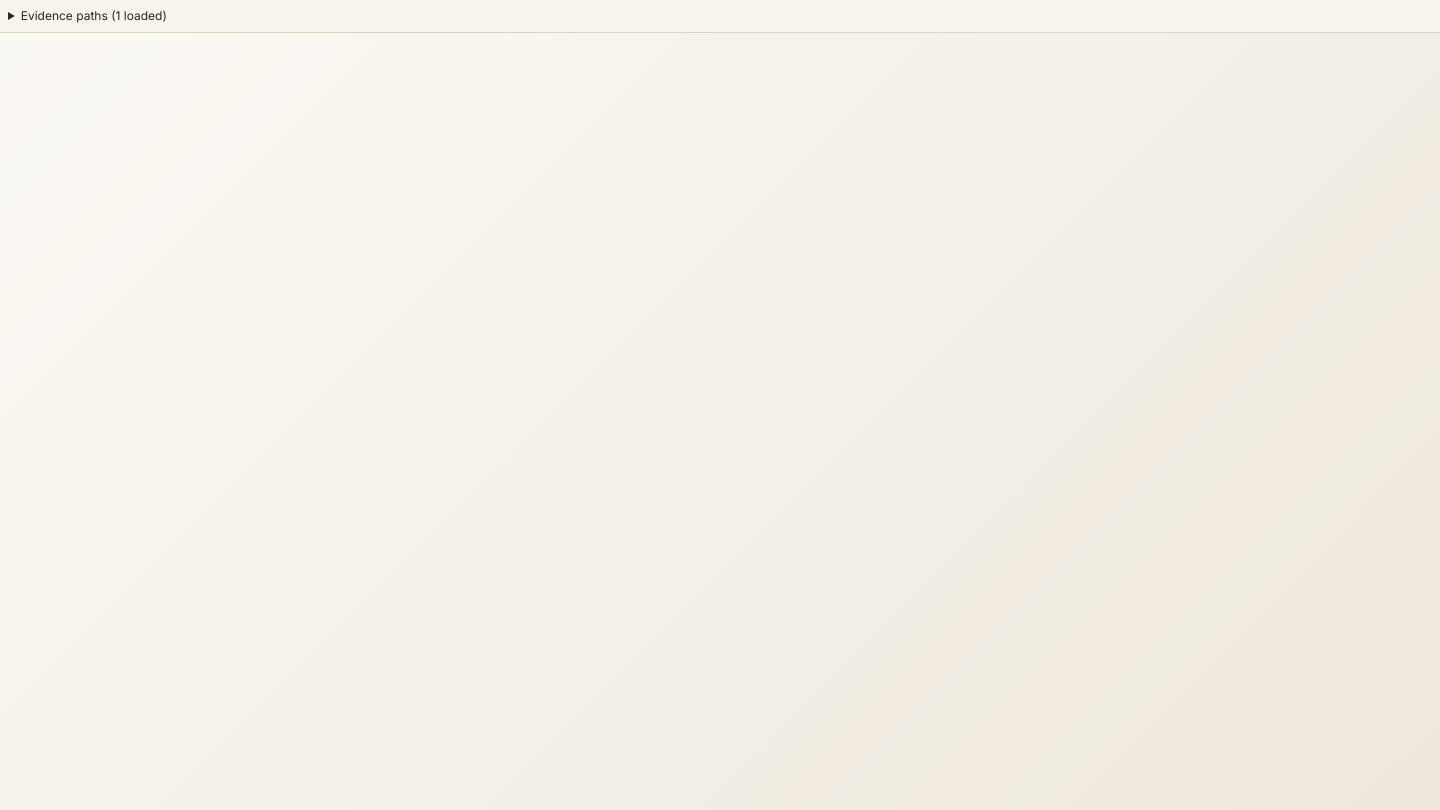
Integrated evidence paths › keeps stored direction, properties and citations and can fetch the next page
Later steps or results of the test are not shown.
Click the heading "Evidence paths (1 loaded)" at (94, 16), box top-left (21, 8), bottom-right (167, 23)
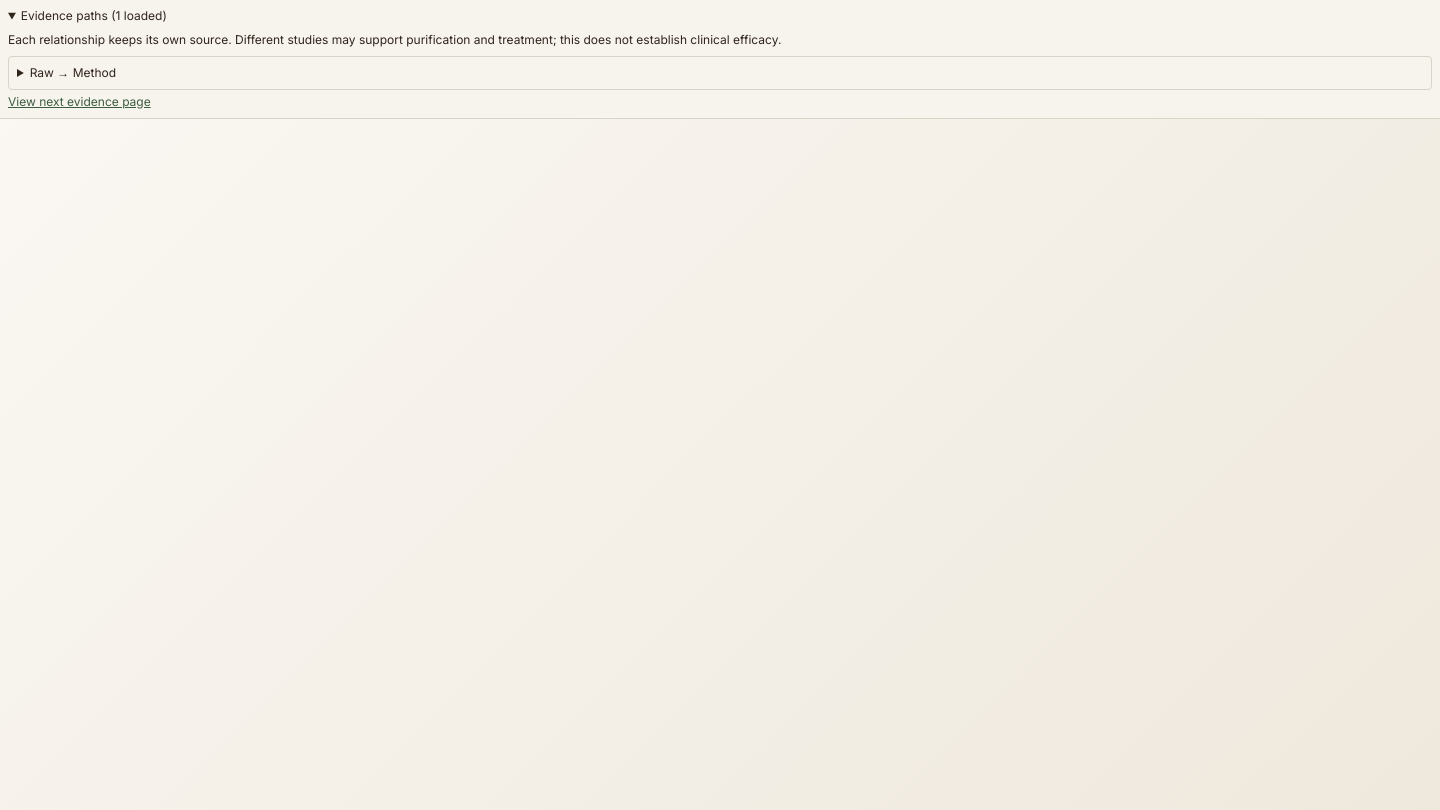
Expected: the heading "Raw → Method" is shown
Click the heading "Raw → Method" at (73, 72), box top-left (30, 65), bottom-right (116, 80)
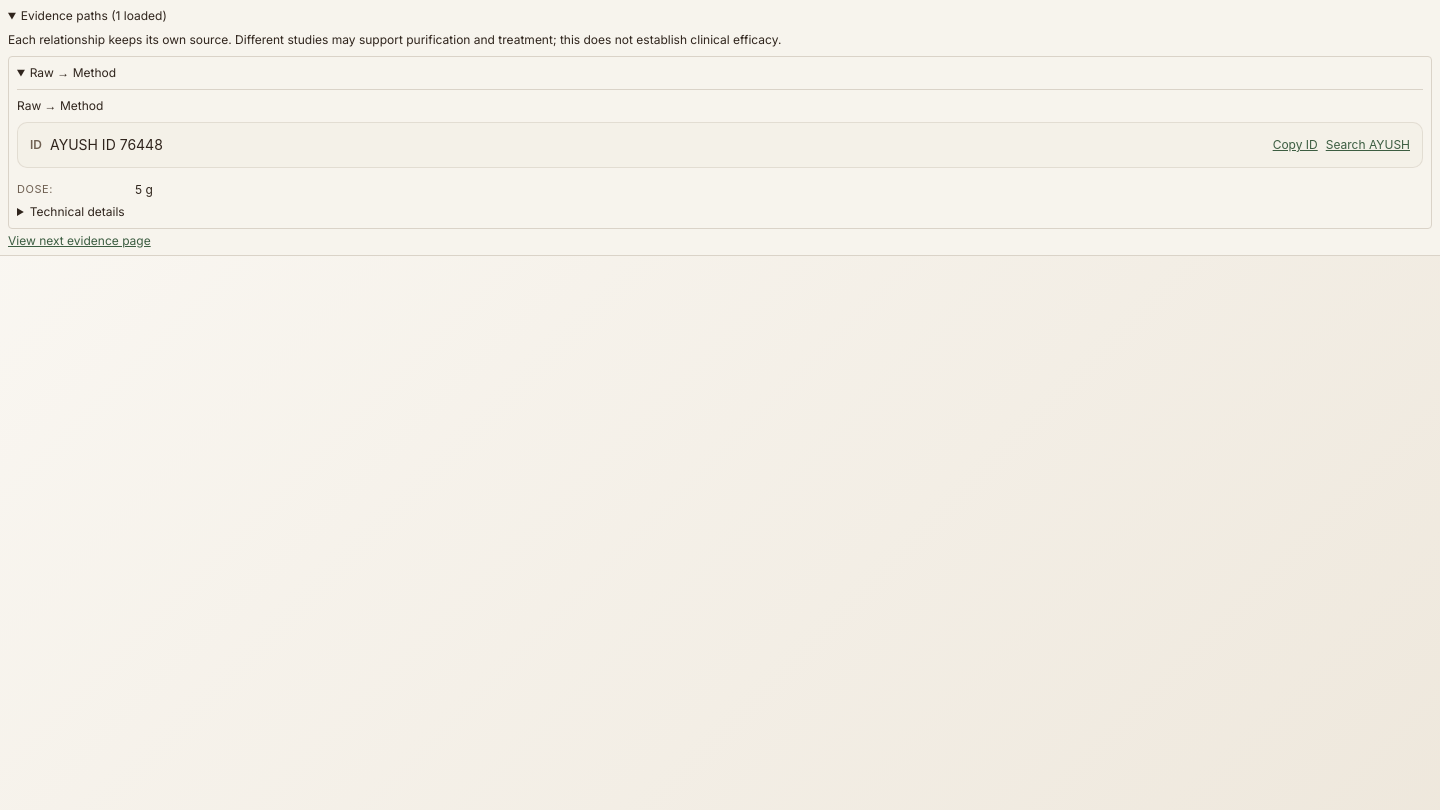
Expected: the number of headings "Raw → Method" is 2, top-left (30, 65), bottom-right (116, 80); top-left (17, 98), bottom-right (103, 113)
Expected: the text "AYUSH ID 76448" is shown, top-left (50, 136), bottom-right (163, 153)
